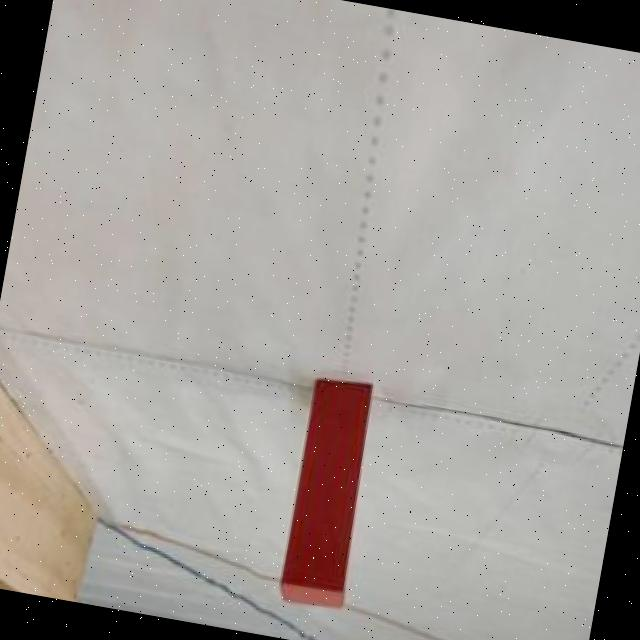redbox: (273, 370, 380, 609)
